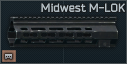HK 416A5 Midwest Industries 9 inch M-LOK handguard: (0, 0, 127, 64)
